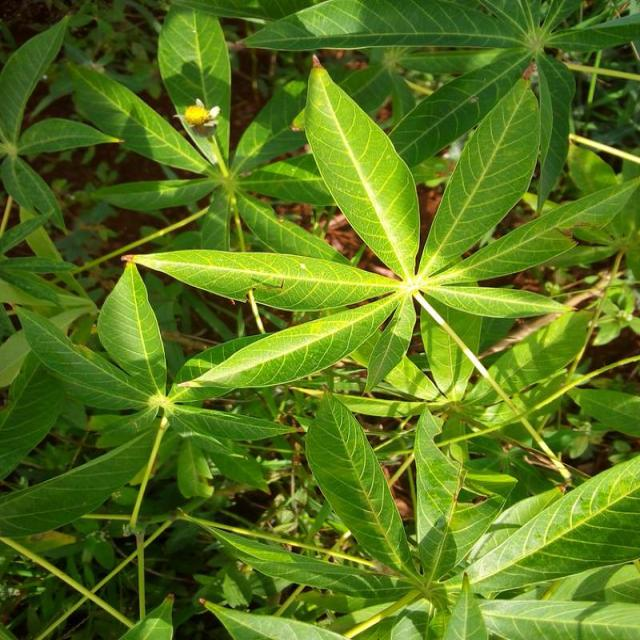cassava leaf: (305, 56, 422, 280), (418, 74, 542, 280), (306, 390, 420, 582), (98, 260, 168, 398)
